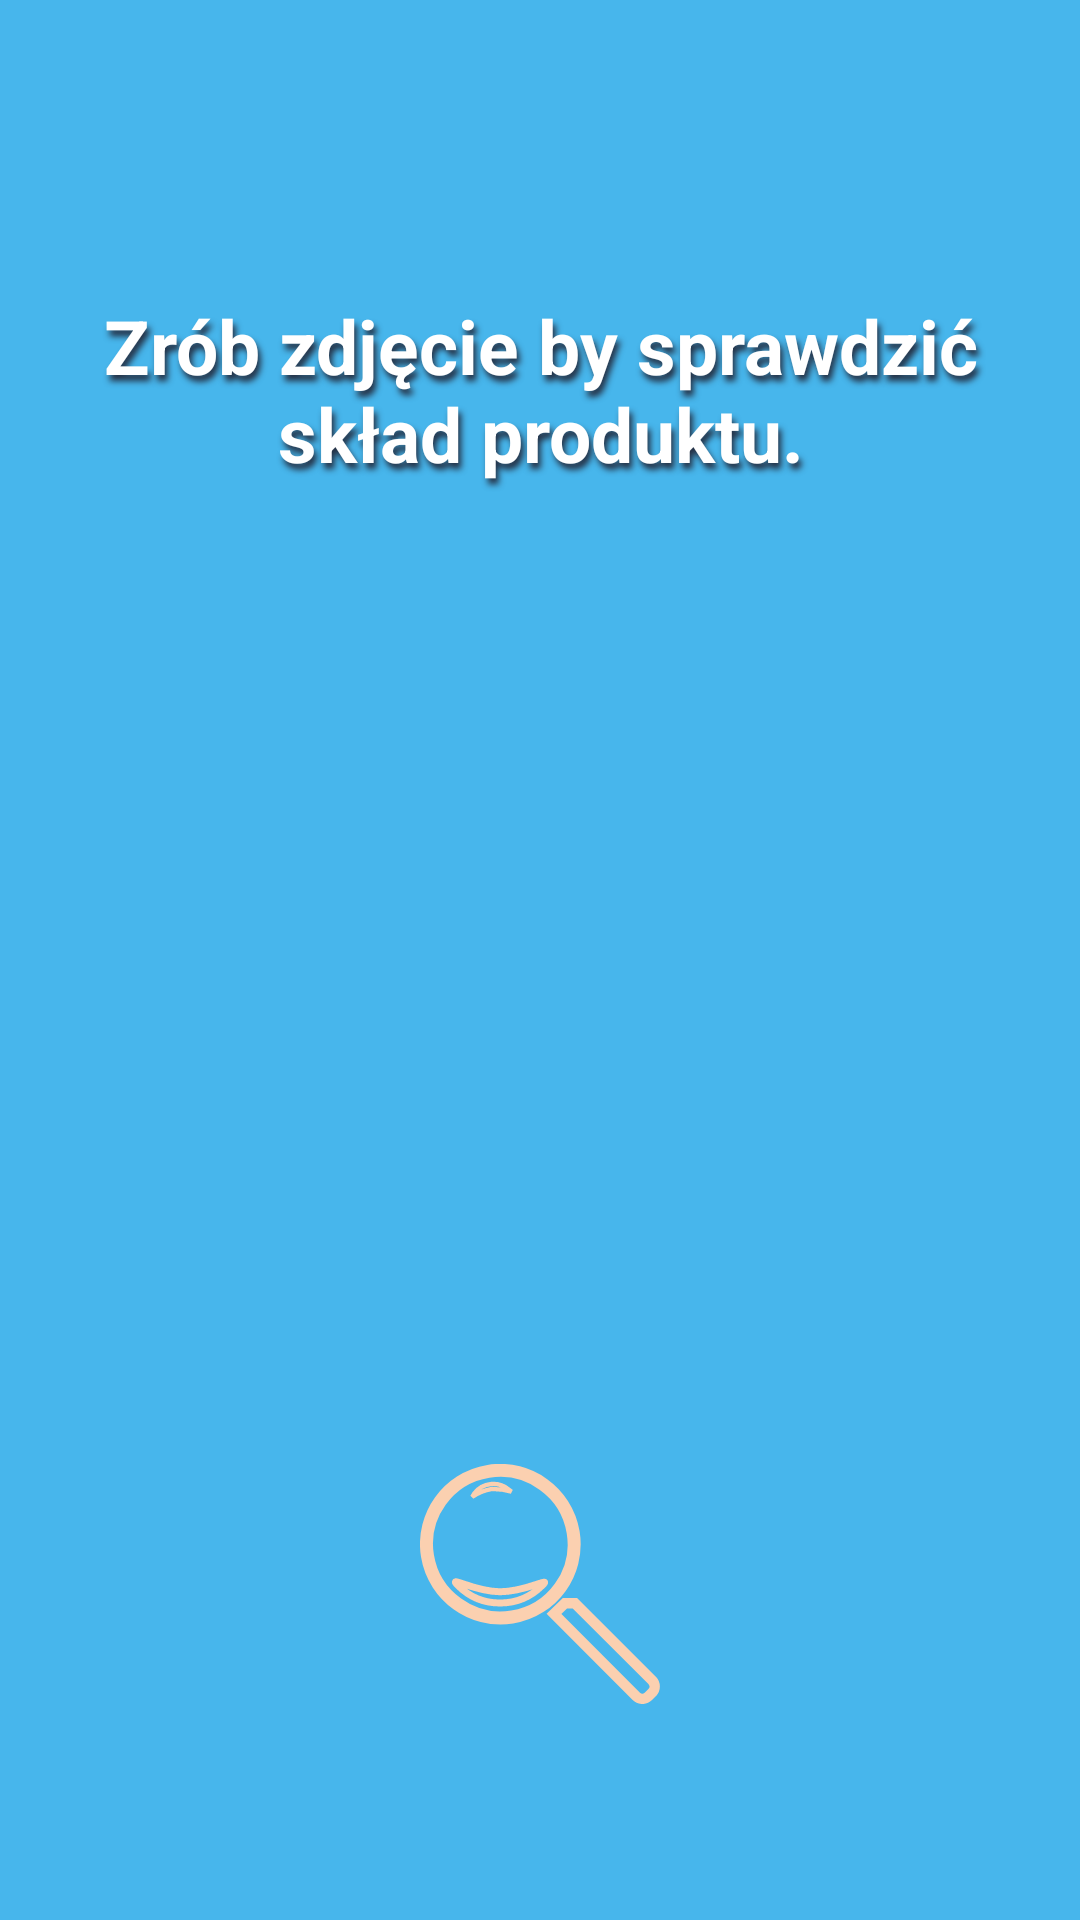

Icons on this 1080 × 1920 Android screen, each with its box as [x1, y1, x2, y2]:
lupa: [420, 1464, 660, 1704]
